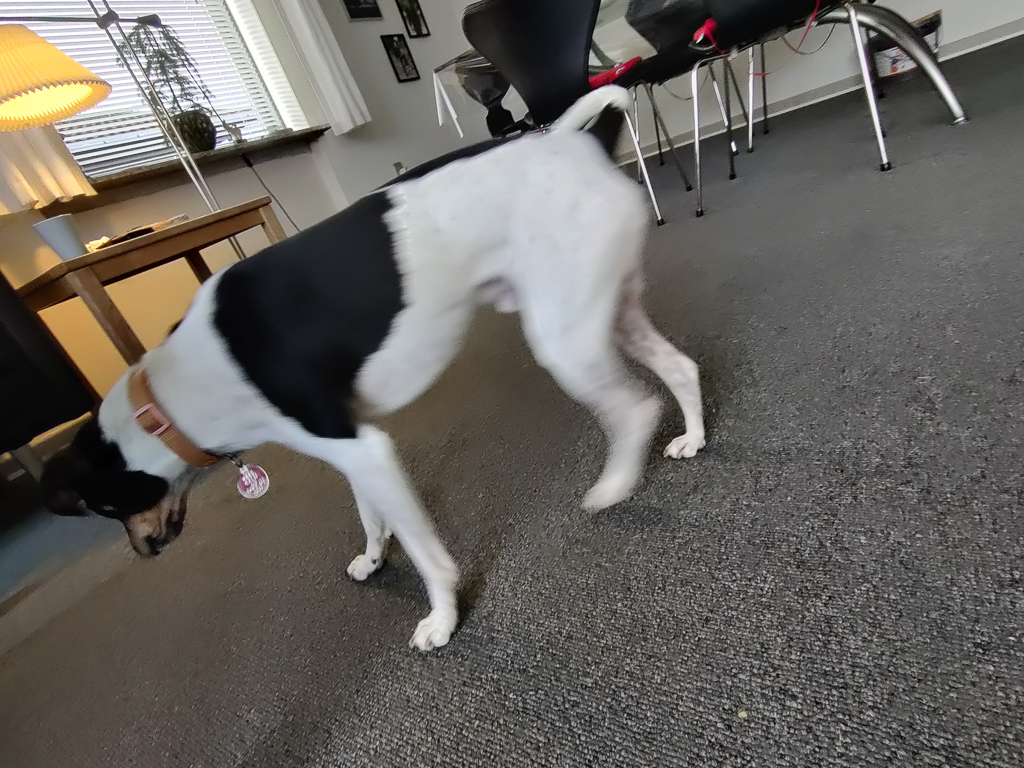Dog: (29, 76, 729, 665)
